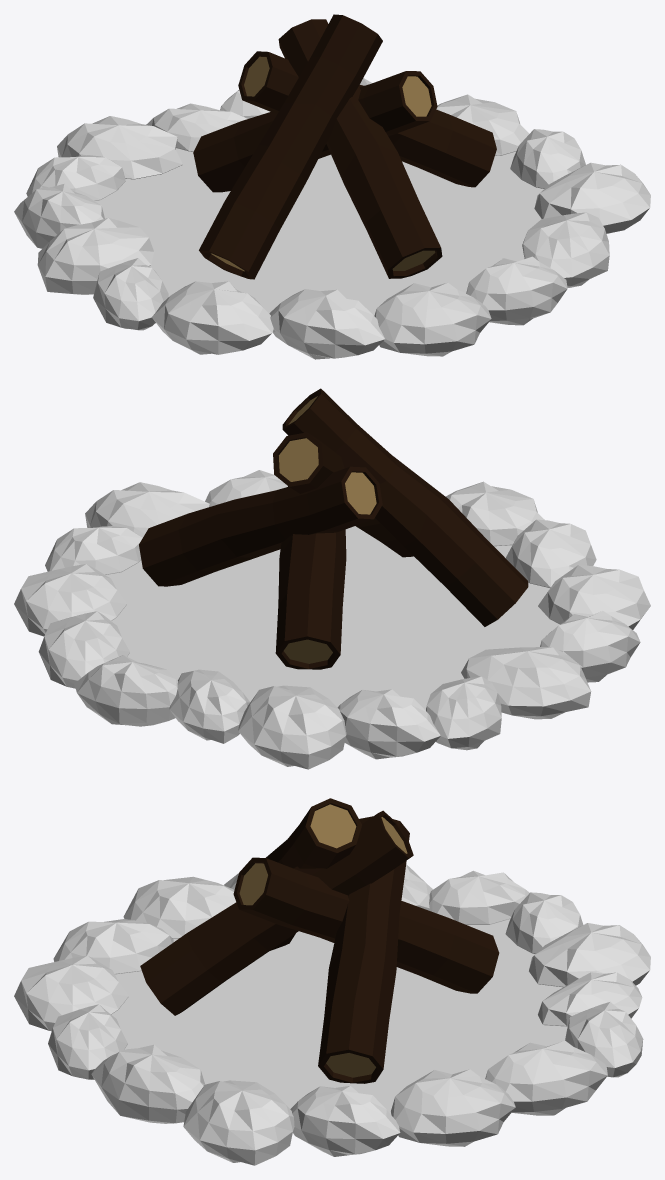
File: FireCamp.fbx
3 views of the same model, one above another, from view 1: azimuth 30°, elevation 25°; view 2: azimuth 150°, elevation 25°; view 3: azimuth 270°, elevation 25° (orthographic). The views are drawn at different scales.
Parts seen in each view (by area): view 1: Cylinder001, Pino1_Tronco004, Pino1_Tronco001, Pino1_Tronco002, Pino1_Tronco003, Sphere018, Sphere003, Sphere019, Sphere011, Sphere006, Sphere016, Sphere004 (+8 smaller); view 2: Cylinder001, Pino1_Tronco004, Pino1_Tronco002, Pino1_Tronco003, Sphere016, Sphere011, Sphere015, Sphere017, Sphere013, Sphere018, Sphere014, Sphere010 (+8 smaller); view 3: Cylinder001, Pino1_Tronco002, Pino1_Tronco003, Pino1_Tronco001, Sphere013, Sphere006, Sphere005, Sphere014, Sphere007, Sphere016, Sphere003, Sphere018 (+8 smaller).
Part boxes in pixels (x1=…): Cylinder001: x1=95, y1=148, x2=543, y2=331; Pino1_Tronco004: x1=199, y1=14, x2=382, y2=279; Pino1_Tronco001: x1=278, y1=19, x2=442, y2=278; Pino1_Tronco002: x1=238, y1=51, x2=496, y2=187; Pino1_Tronco003: x1=193, y1=71, x2=437, y2=192; Sphere018: x1=152, y1=281, x2=273, y2=354; Sphere003: x1=374, y1=282, x2=491, y2=356; Sphere019: x1=269, y1=289, x2=384, y2=359; Sphere011: x1=37, y1=217, x2=153, y2=294; Sphere006: x1=534, y1=162, x2=650, y2=233; Sphere016: x1=57, y1=116, x2=182, y2=179; Sphere004: x1=466, y1=256, x2=567, y2=325; Cylinder001: x1=106, y1=526, x2=559, y2=710; Pino1_Tronco004: x1=282, y1=388, x2=528, y2=626; Pino1_Tronco002: x1=139, y1=466, x2=382, y2=586; Pino1_Tronco003: x1=275, y1=486, x2=346, y2=669; Sphere016: x1=238, y1=685, x2=346, y2=769; Sphere011: x1=461, y1=647, x2=591, y2=719; Sphere015: x1=74, y1=655, x2=177, y2=726; Sphere017: x1=337, y1=689, x2=440, y2=759; Sphere013: x1=14, y1=564, x2=126, y2=636; Sphere018: x1=538, y1=565, x2=650, y2=629; Sphere014: x1=38, y1=611, x2=129, y2=688; Sphere010: x1=426, y1=676, x2=501, y2=750; Cylinder001: x1=111, y1=919, x2=567, y2=1114; Pino1_Tronco002: x1=318, y1=816, x2=409, y2=1083; Pino1_Tronco003: x1=233, y1=857, x2=499, y2=993; Pino1_Tronco001: x1=140, y1=810, x2=413, y2=1015; Sphere013: x1=391, y1=1069, x2=515, y2=1146; Sphere006: x1=183, y1=1080, x2=294, y2=1165; Sphere005: x1=91, y1=1044, x2=204, y2=1123; Sphere014: x1=485, y1=1040, x2=607, y2=1115; Sphere007: x1=290, y1=1085, x2=400, y2=1156; Sphere016: x1=529, y1=923, x2=650, y2=987; Sphere003: x1=14, y1=955, x2=128, y2=1031; Sphere018: x1=123, y1=876, x2=235, y2=938.
Size of the model in its own units: 191 by 79.56 by 185.
